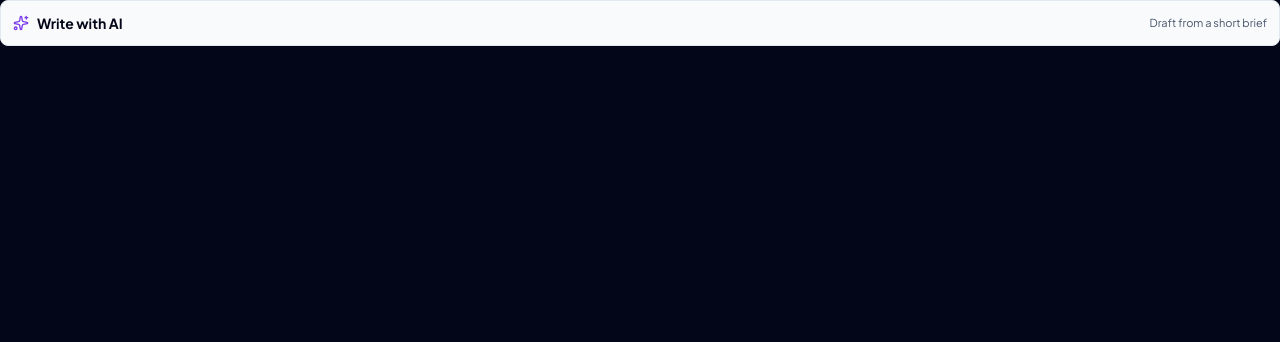
Test: AiWriterPanel › needs a brief, passes options to onGenerate, and offers undo
This screenshot has width=1280, height=342.
Later steps or results of the test are not shown.
Click the button "Write with AI Draft from a short brief" at (80, 23), box [13,13,1267,33]
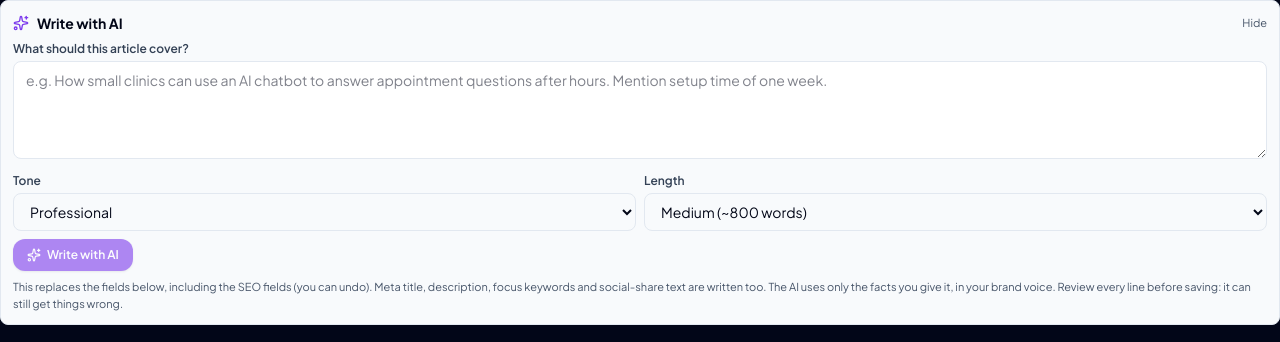
Check: the button "Write with AI" is disabled, box [13,239,133,271]
Replace the text in the text box labelled "What should this article cover?" with "How clinics use chatbots" at (640, 110), box [13,61,1267,159]
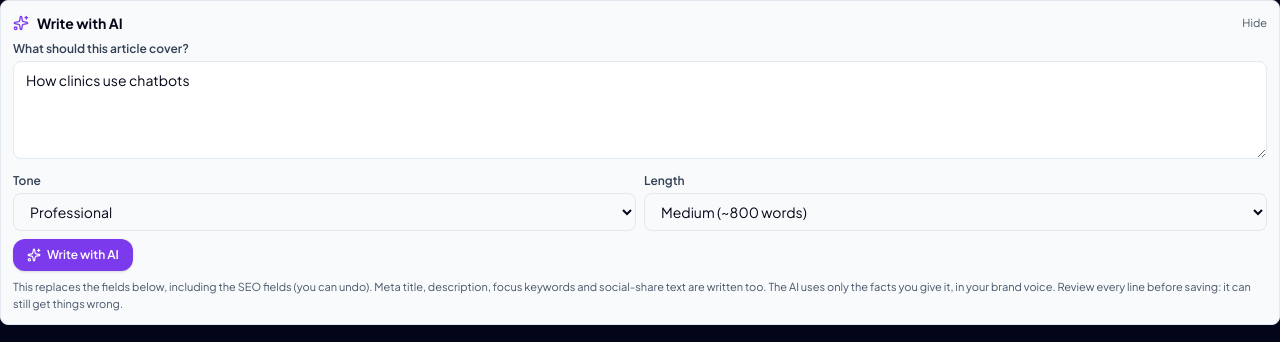
Select "Long (~1,400 words)" in the dropdown labelled "Length" at (956, 212), box [644,193,1267,231]
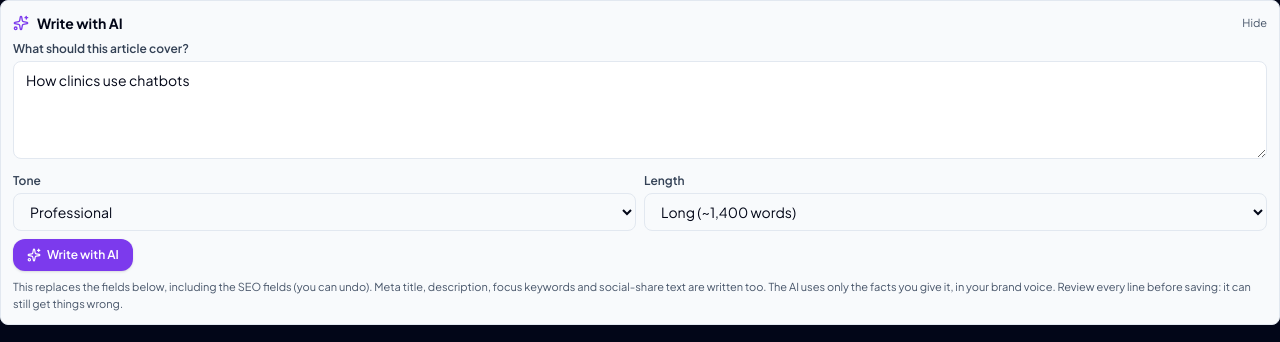
Check: the button "Write with AI" is enabled, box [13,239,133,271]
